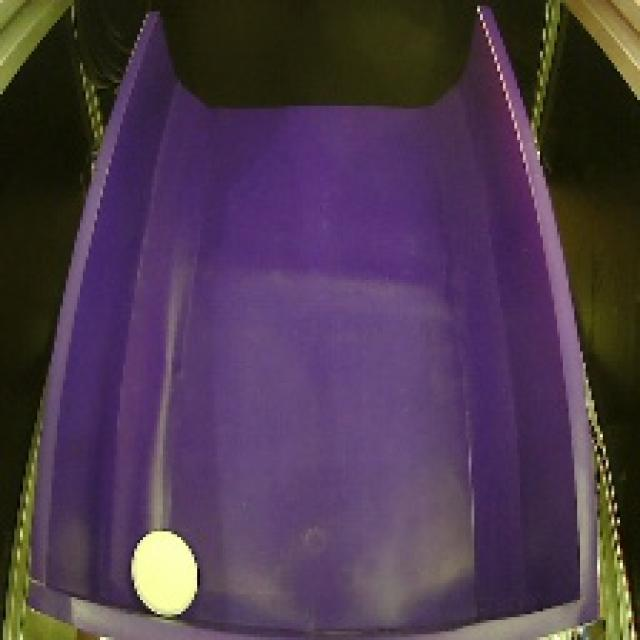small: (127, 520, 201, 621)
